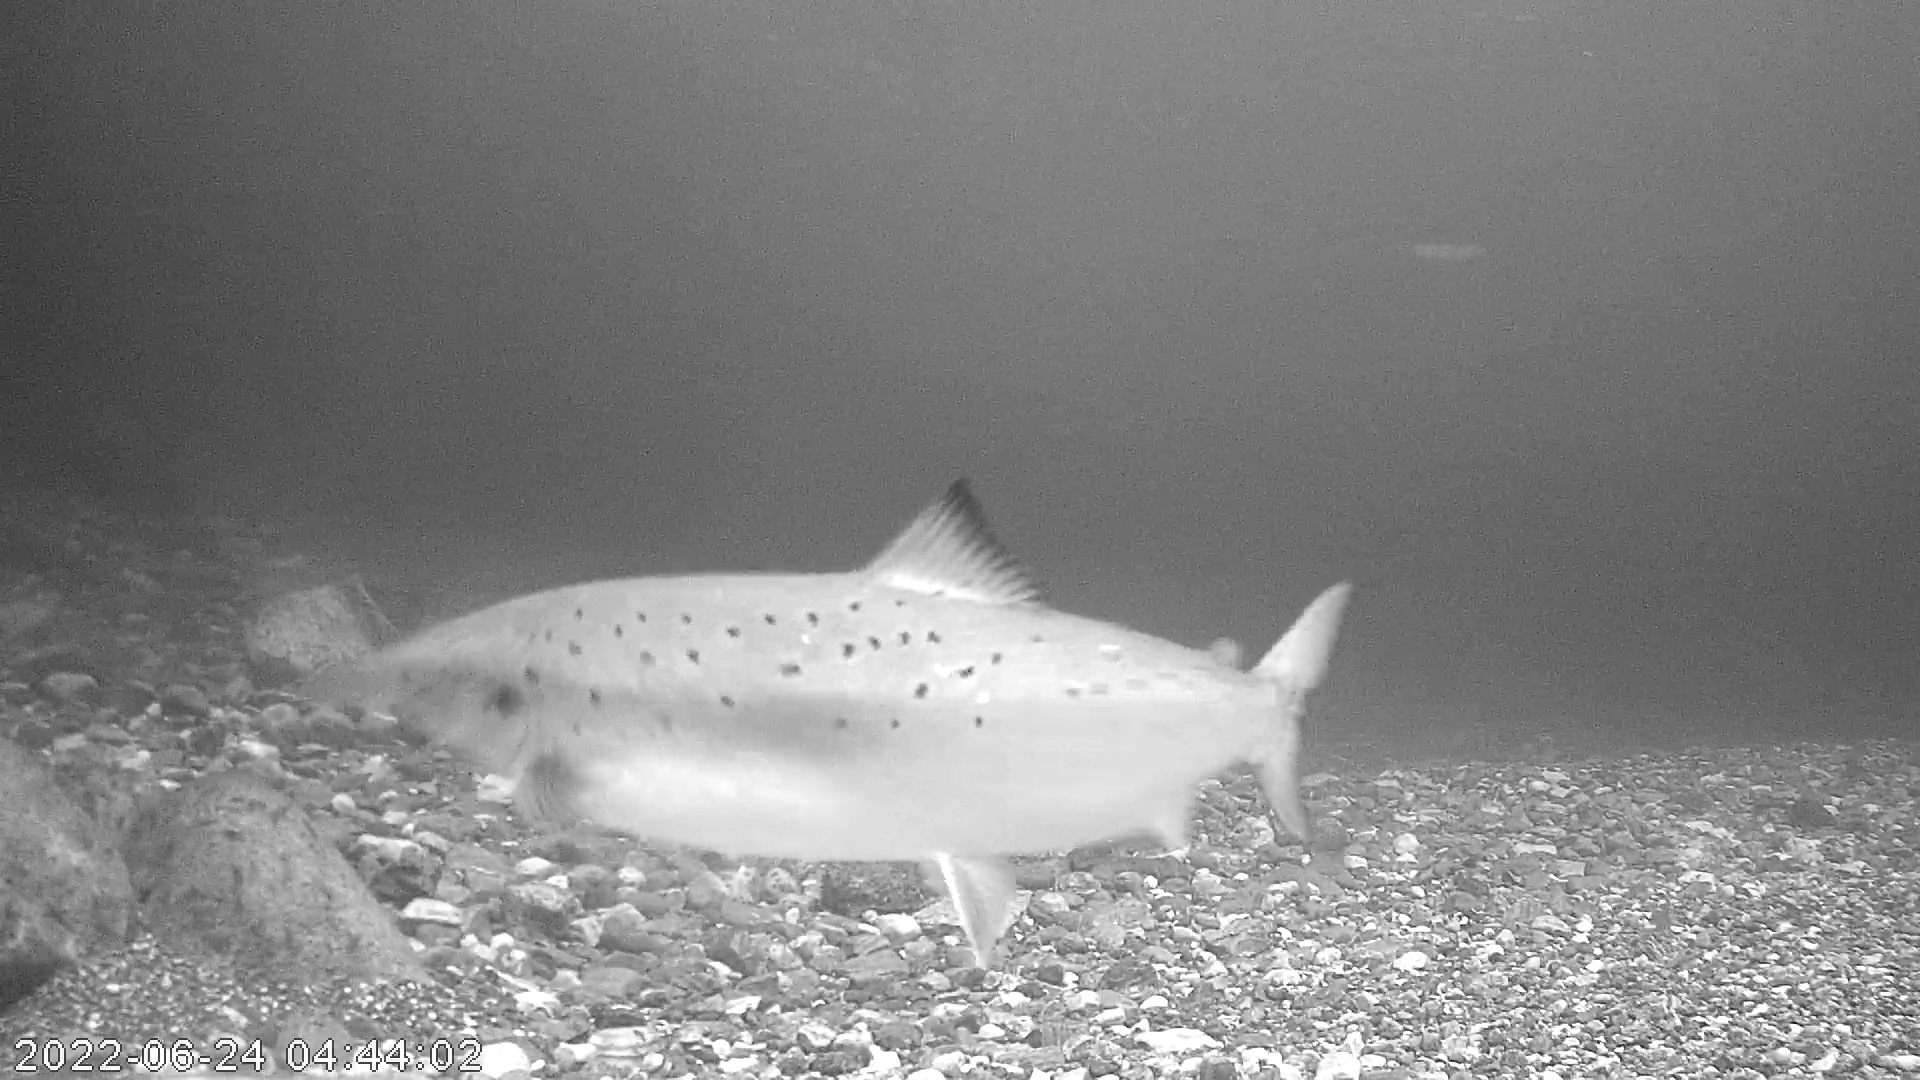salmon: (371, 471, 1361, 967)
